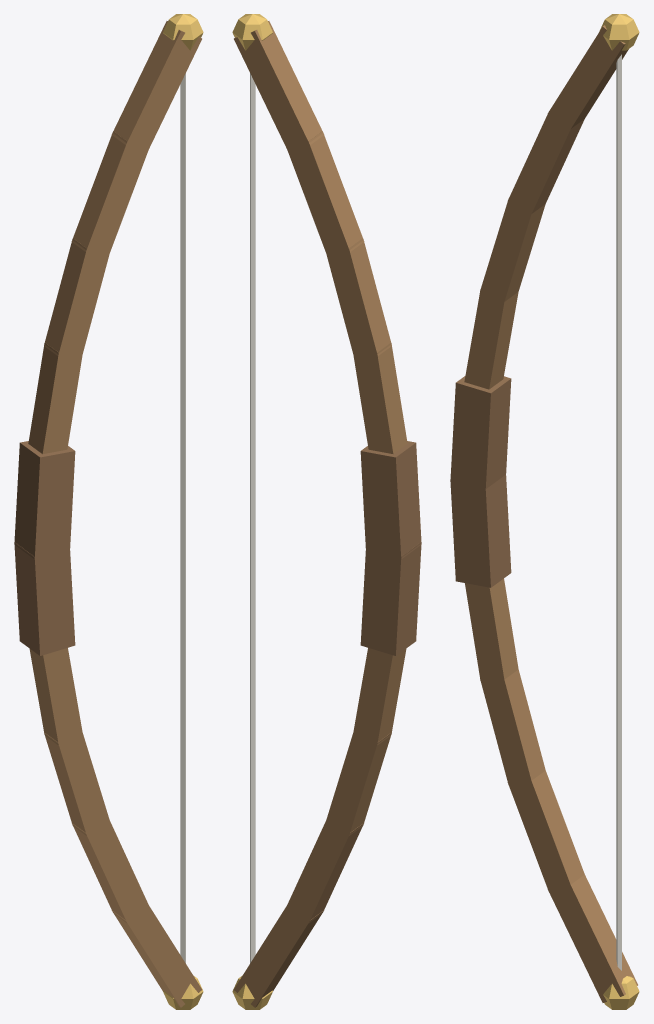
The model's file is Bow.fbx.
3 views of the same model, side by side, from view 1: azimuth 30°, elevation 25°; view 2: azimuth 150°, elevation 25°; view 3: azimuth 330°, elevation 25° (orthographic).
Parts seen in each view (by area): view 1: W_Bow; view 2: W_Bow; view 3: W_Bow.
Boxes of the visible parts, left/top/right/bottom form: W_Bow: left=14, top=14, right=203, bottom=1009; W_Bow: left=232, top=14, right=421, bottom=1009; W_Bow: left=450, top=14, right=639, bottom=1009.
Bounding box in the file's own units: 0.2468 × 1.35 × 0.05.
